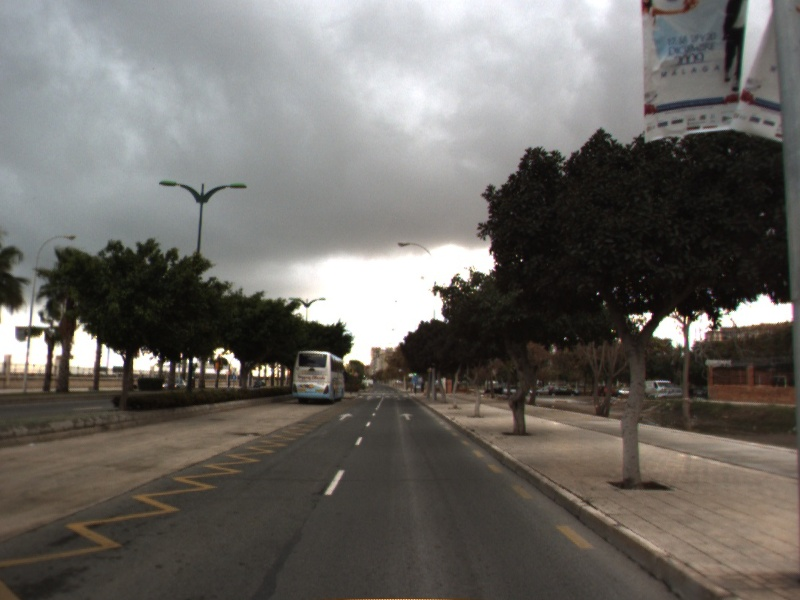STRAIGHT: (397, 411, 417, 422), (336, 411, 355, 422)
